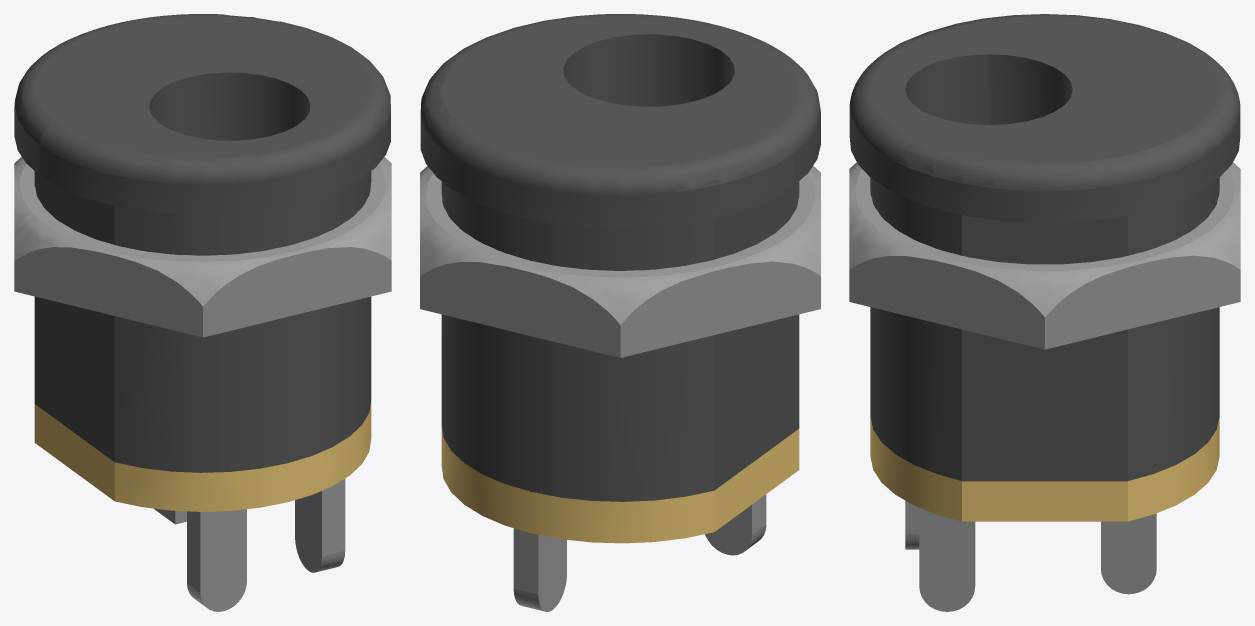
Rendered from ada-610.glb.
3 renders of one model, left to right at view 1: azimuth 30°, elevation 25°; view 2: azimuth 150°, elevation 25°; view 3: azimuth 270°, elevation 25°, orthographic. The views are drawn at different scales.
Visible parts, largest first — view 1: 0.08333333333333333_0.08333333333333333_0.08333333333333333_, 0.3333333333333333_0.3333333333333333_0.3333333333333333_0, 0.9166666666666666_0.6666666666666666_0.16666666666666666_0; view 2: 0.08333333333333333_0.08333333333333333_0.08333333333333333_, 0.3333333333333333_0.3333333333333333_0.3333333333333333_0, 0.9166666666666666_0.6666666666666666_0.16666666666666666_0; view 3: 0.08333333333333333_0.08333333333333333_0.08333333333333333_, 0.3333333333333333_0.3333333333333333_0.3333333333333333_0, 0.9166666666666666_0.6666666666666666_0.16666666666666666_0.
Boxes of the visible parts, x1,y1,x2,y2 form: 0.08333333333333333_0.08333333333333333_0.08333333333333333_: (14, 14, 390, 472); 0.3333333333333333_0.3333333333333333_0.3333333333333333_0: (14, 157, 391, 611); 0.9166666666666666_0.6666666666666666_0.16666666666666666_0: (34, 400, 371, 511); 0.08333333333333333_0.08333333333333333_0.08333333333333333_: (420, 14, 820, 501); 0.3333333333333333_0.3333333333333333_0.3333333333333333_0: (420, 166, 820, 611); 0.9166666666666666_0.6666666666666666_0.16666666666666666_0: (441, 426, 799, 543); 0.08333333333333333_0.08333333333333333_0.08333333333333333_: (849, 14, 1240, 481); 0.3333333333333333_0.3333333333333333_0.3333333333333333_0: (849, 162, 1240, 611); 0.9166666666666666_0.6666666666666666_0.16666666666666666_0: (870, 417, 1219, 521).
Size of the model in its own units: 1.62 by 1.9 by 1.4.
